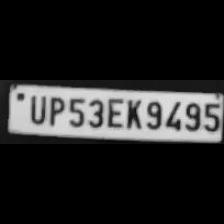3: (85, 96, 103, 128)
4: (162, 98, 182, 132)
5: (64, 94, 86, 128), (200, 100, 222, 134)
9: (142, 98, 162, 130), (182, 99, 200, 131)
E: (104, 95, 122, 129)
K: (122, 96, 142, 130)
P: (45, 93, 63, 127)
U: (24, 93, 46, 125)
